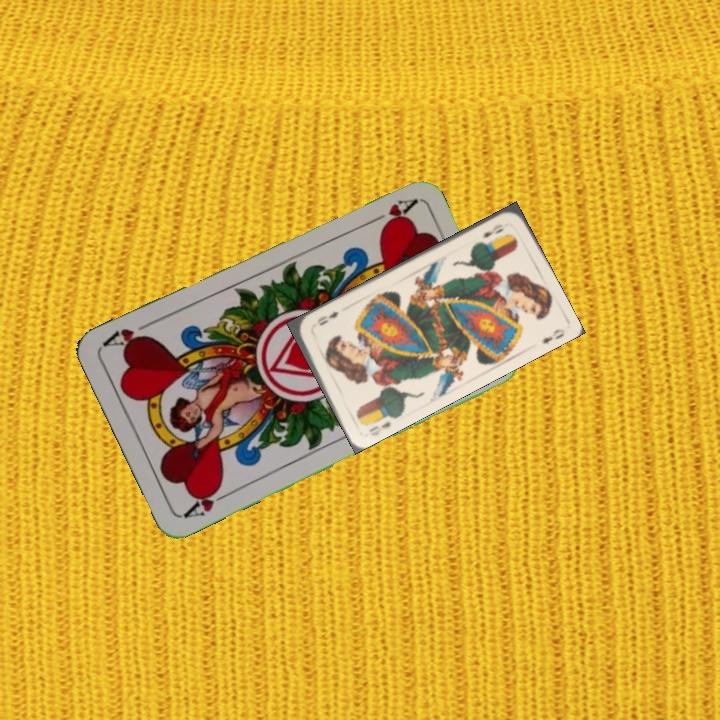EO: (365, 417, 393, 439), (479, 220, 507, 241)
HA: (179, 481, 235, 521), (362, 194, 418, 228)
